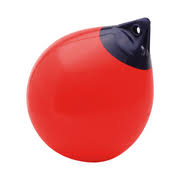buoy: (26, 26, 155, 162)
